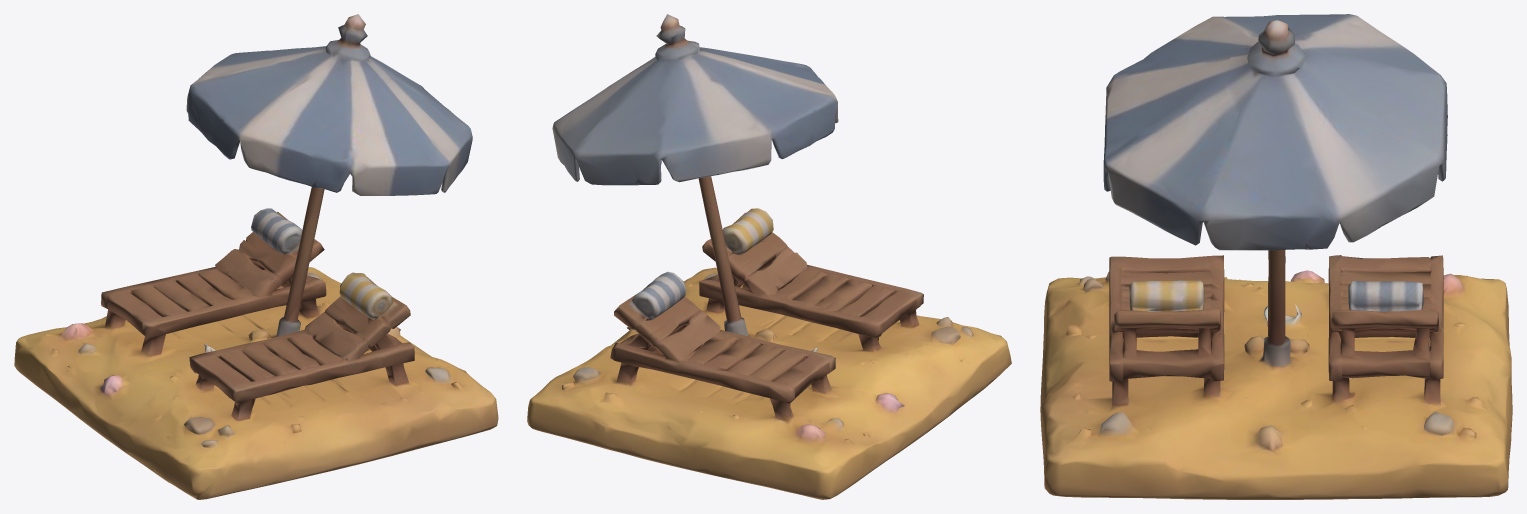
Rendered from beach_umbrella.glb.
3 renders of one model, left to right at view 1: azimuth 30°, elevation 25°; view 2: azimuth 150°, elevation 25°; view 3: azimuth 270°, elevation 25°, orthographic. The views are drawn at different scales.
Visible parts, largest first — view 1: tripo_node_513d59ef-efb6-4e5d-8d8e-1e6f00f54ff0; view 2: tripo_node_513d59ef-efb6-4e5d-8d8e-1e6f00f54ff0; view 3: tripo_node_513d59ef-efb6-4e5d-8d8e-1e6f00f54ff0.
Part boxes in pixels (left/top/right/bottom): tripo_node_513d59ef-efb6-4e5d-8d8e-1e6f00f54ff0: left=14, top=14, right=498, bottom=499; tripo_node_513d59ef-efb6-4e5d-8d8e-1e6f00f54ff0: left=527, top=14, right=1011, bottom=499; tripo_node_513d59ef-efb6-4e5d-8d8e-1e6f00f54ff0: left=1040, top=14, right=1512, bottom=499.
Bounding box in the file's own units: 1 × 0.9938 × 0.9426.
Materials: 1 (1 with a texture image).
